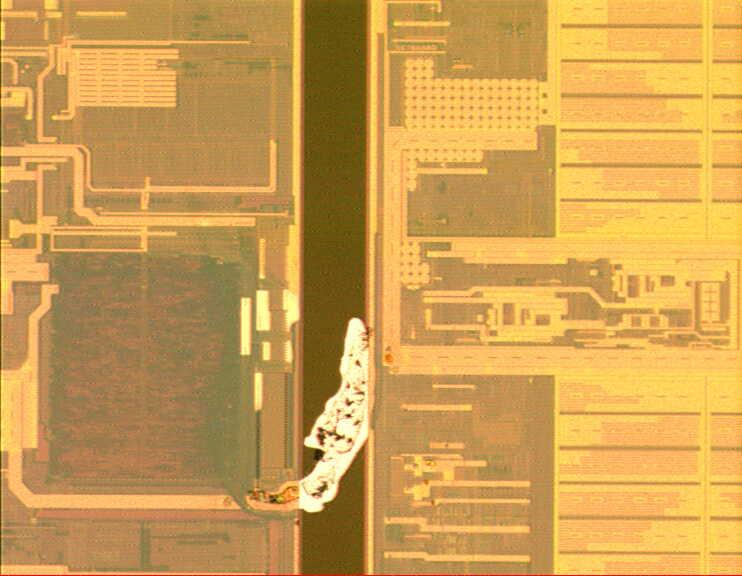BLOCK ETCH: (218, 253, 389, 523)
